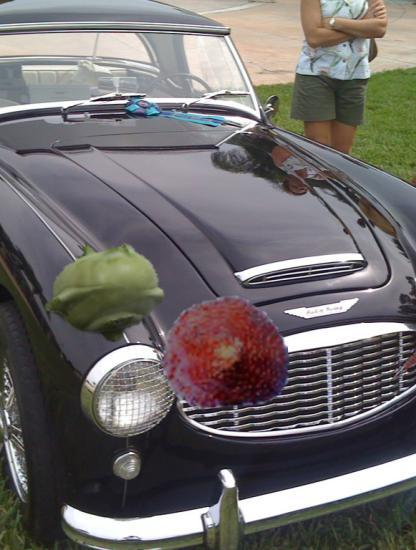Kohlrabi: (41, 231, 165, 355)
Salak: (162, 289, 288, 415)
